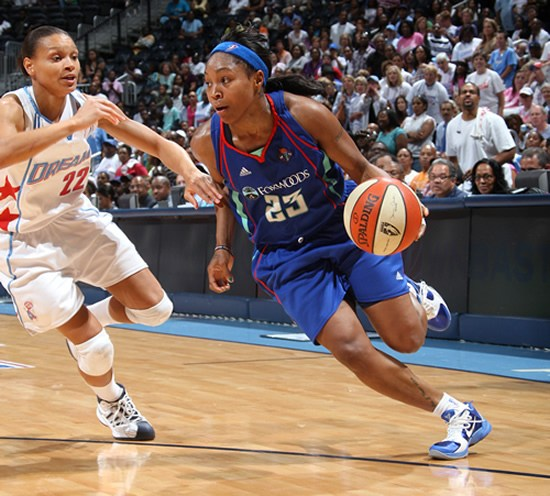ball: (343, 177, 422, 255)
